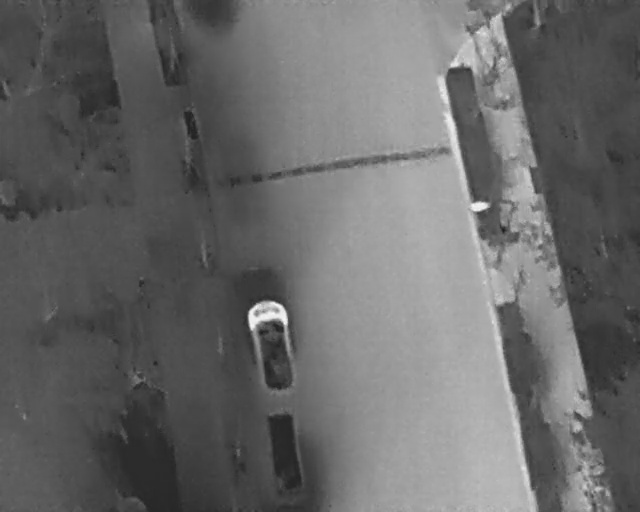Car: (244, 295, 303, 397), (264, 410, 306, 496)
